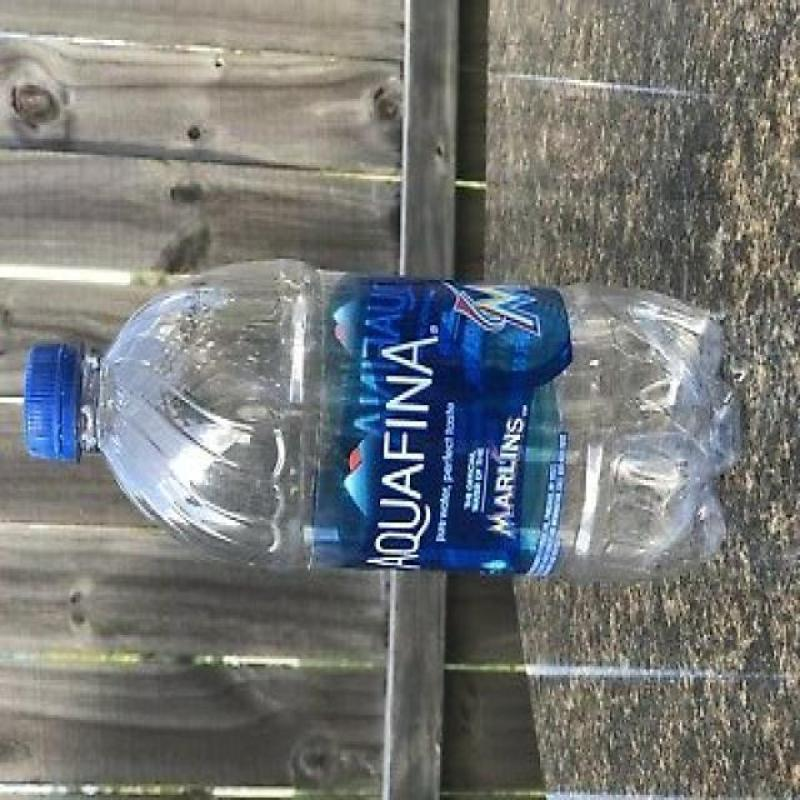botella: (23, 258, 743, 582)
